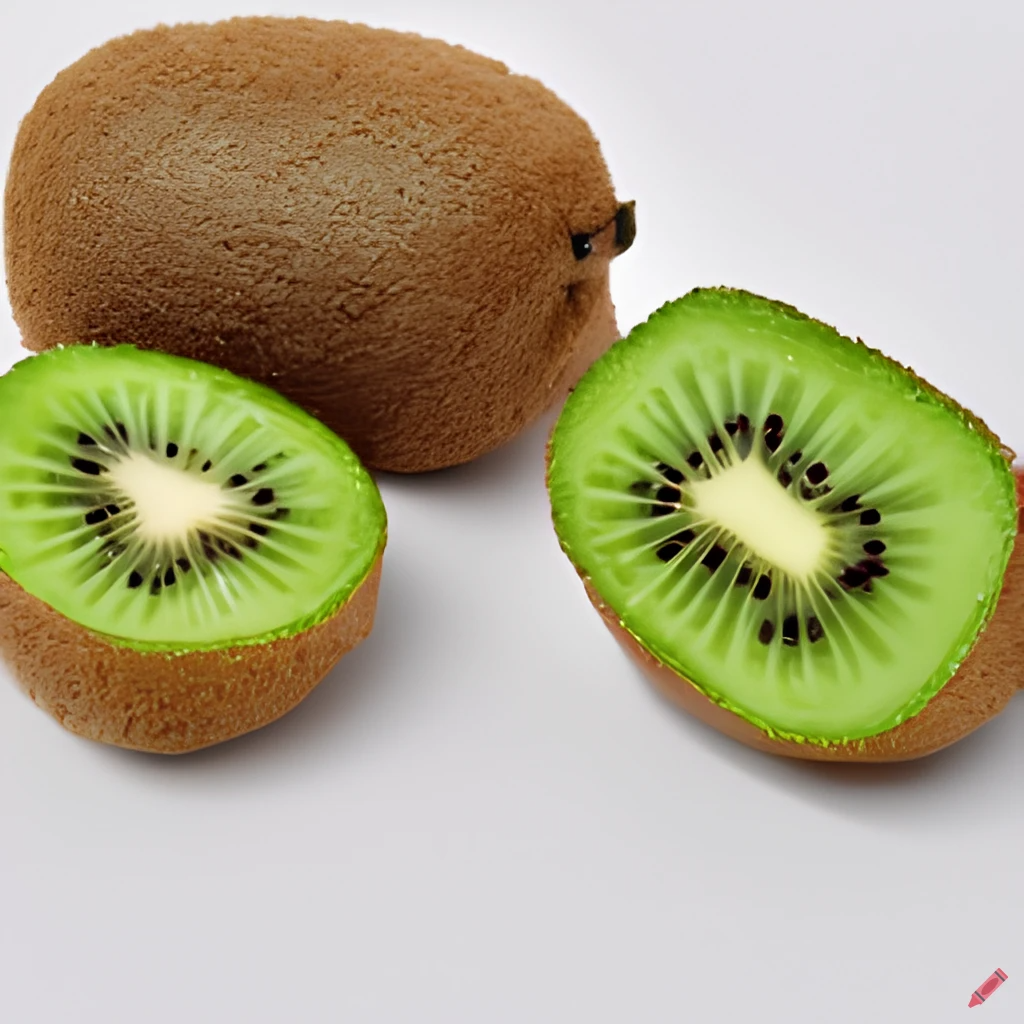Kiwi: (0, 0, 644, 490), (0, 352, 392, 740)
